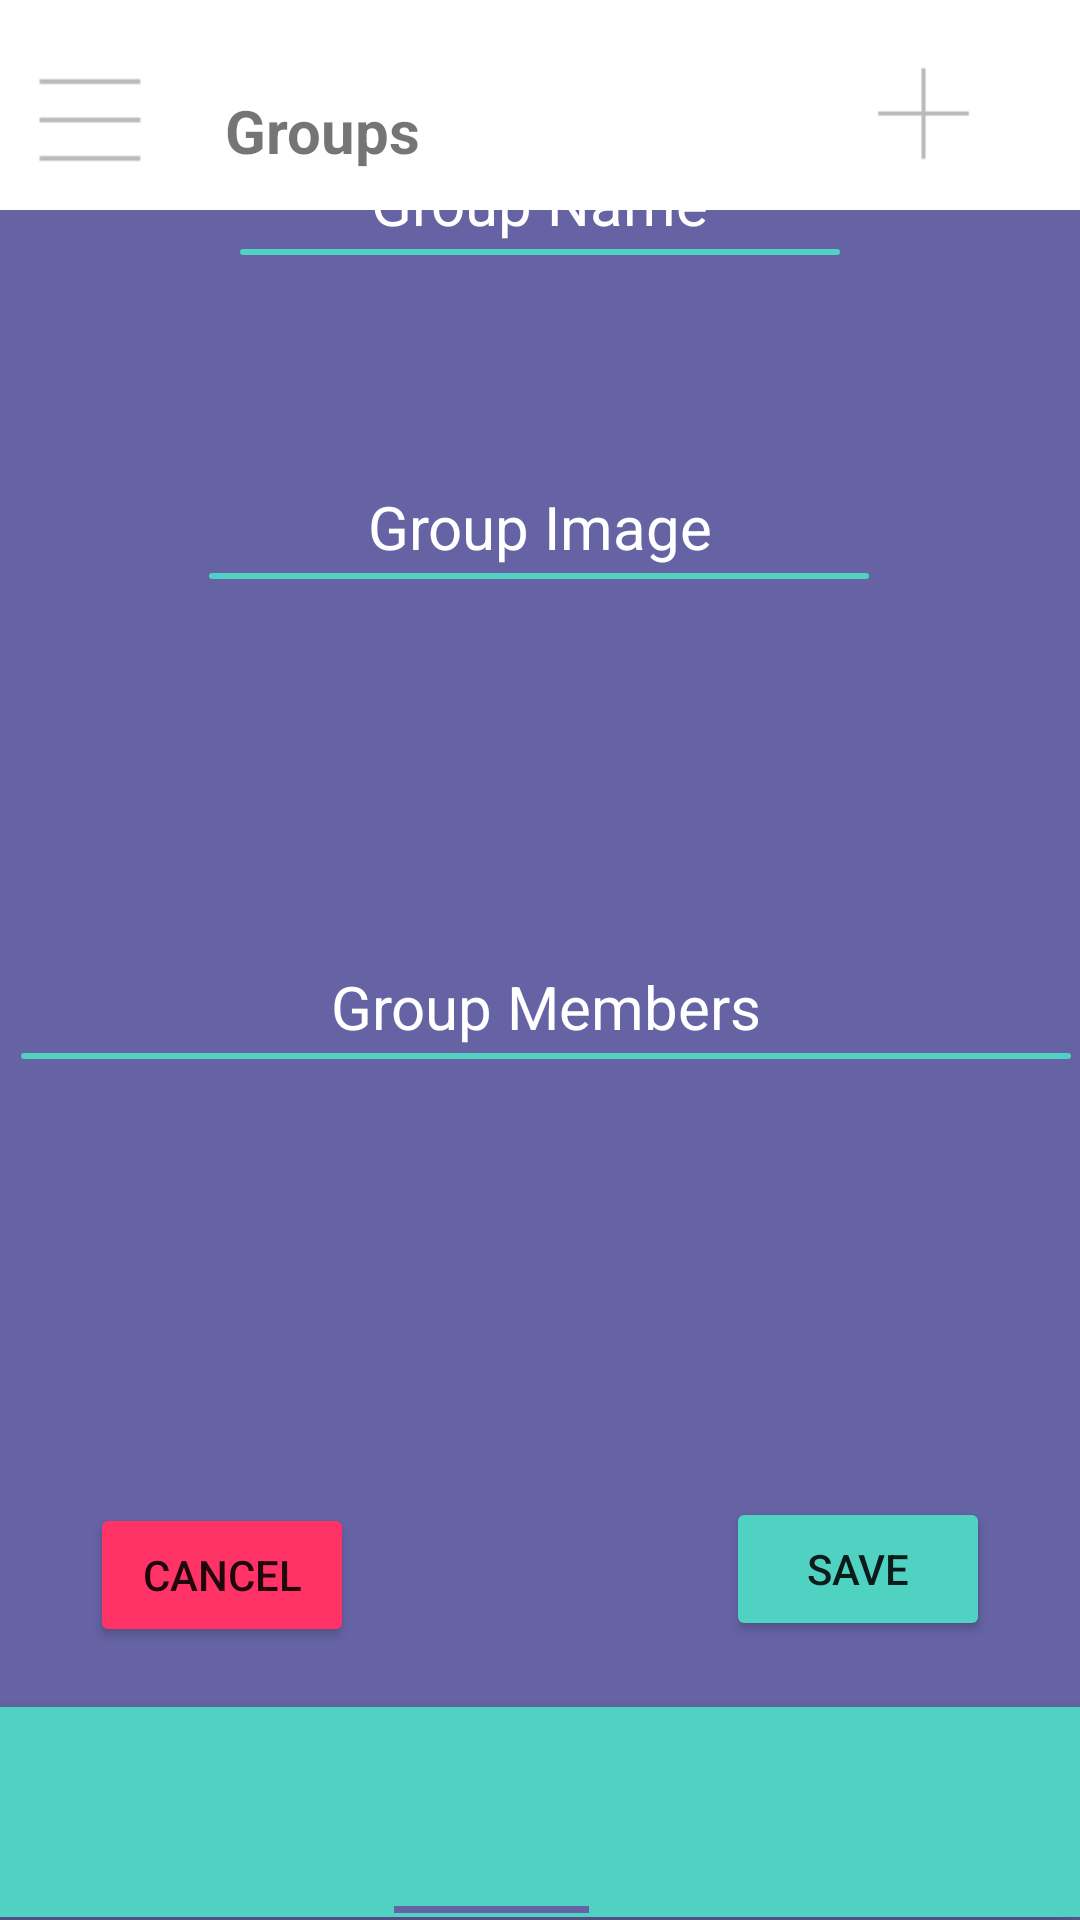

Icons on this 1080×1920 Android screen, each with its box as (x1, y1, x2, y2):
add: (878, 68, 969, 159)
open sidebar: (39, 79, 141, 161)
